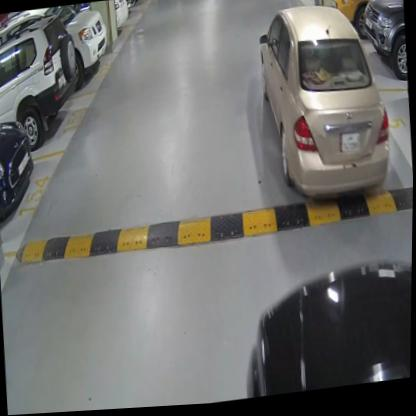np: (338, 136, 362, 158)
